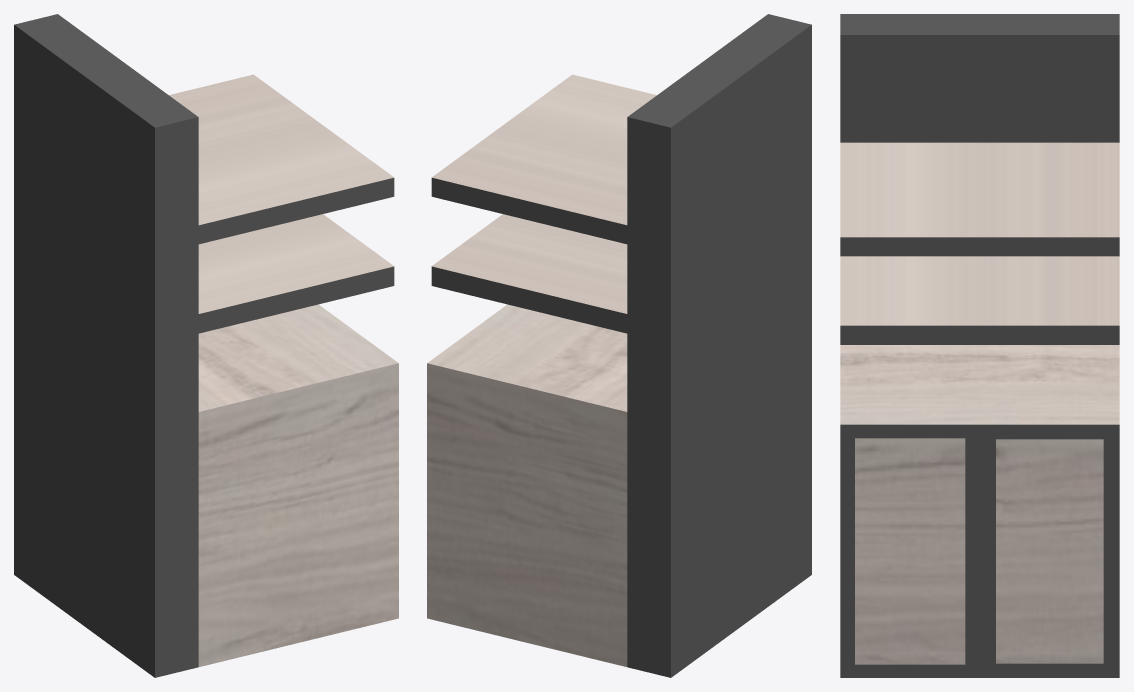
The model's file is ScienceShelf.fbx.
3 renders of one model, left to right at view 1: azimuth 30°, elevation 25°; view 2: azimuth 150°, elevation 25°; view 3: azimuth 270°, elevation 25°, orthographic.
Visible parts, largest first — view 1: Cube; view 2: Cube; view 3: Cube.
Part boxes in pixels (x1,y1,x2,y2): Cube: (14, 14, 398, 677); Cube: (427, 14, 811, 677); Cube: (840, 14, 1119, 677).
Size of the model in its own units: 200 by 431 by 200.
Materials: 3 (1 with a texture image).
